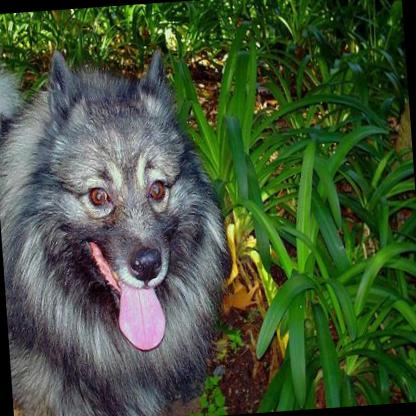keeshond: (0, 39, 234, 416)
